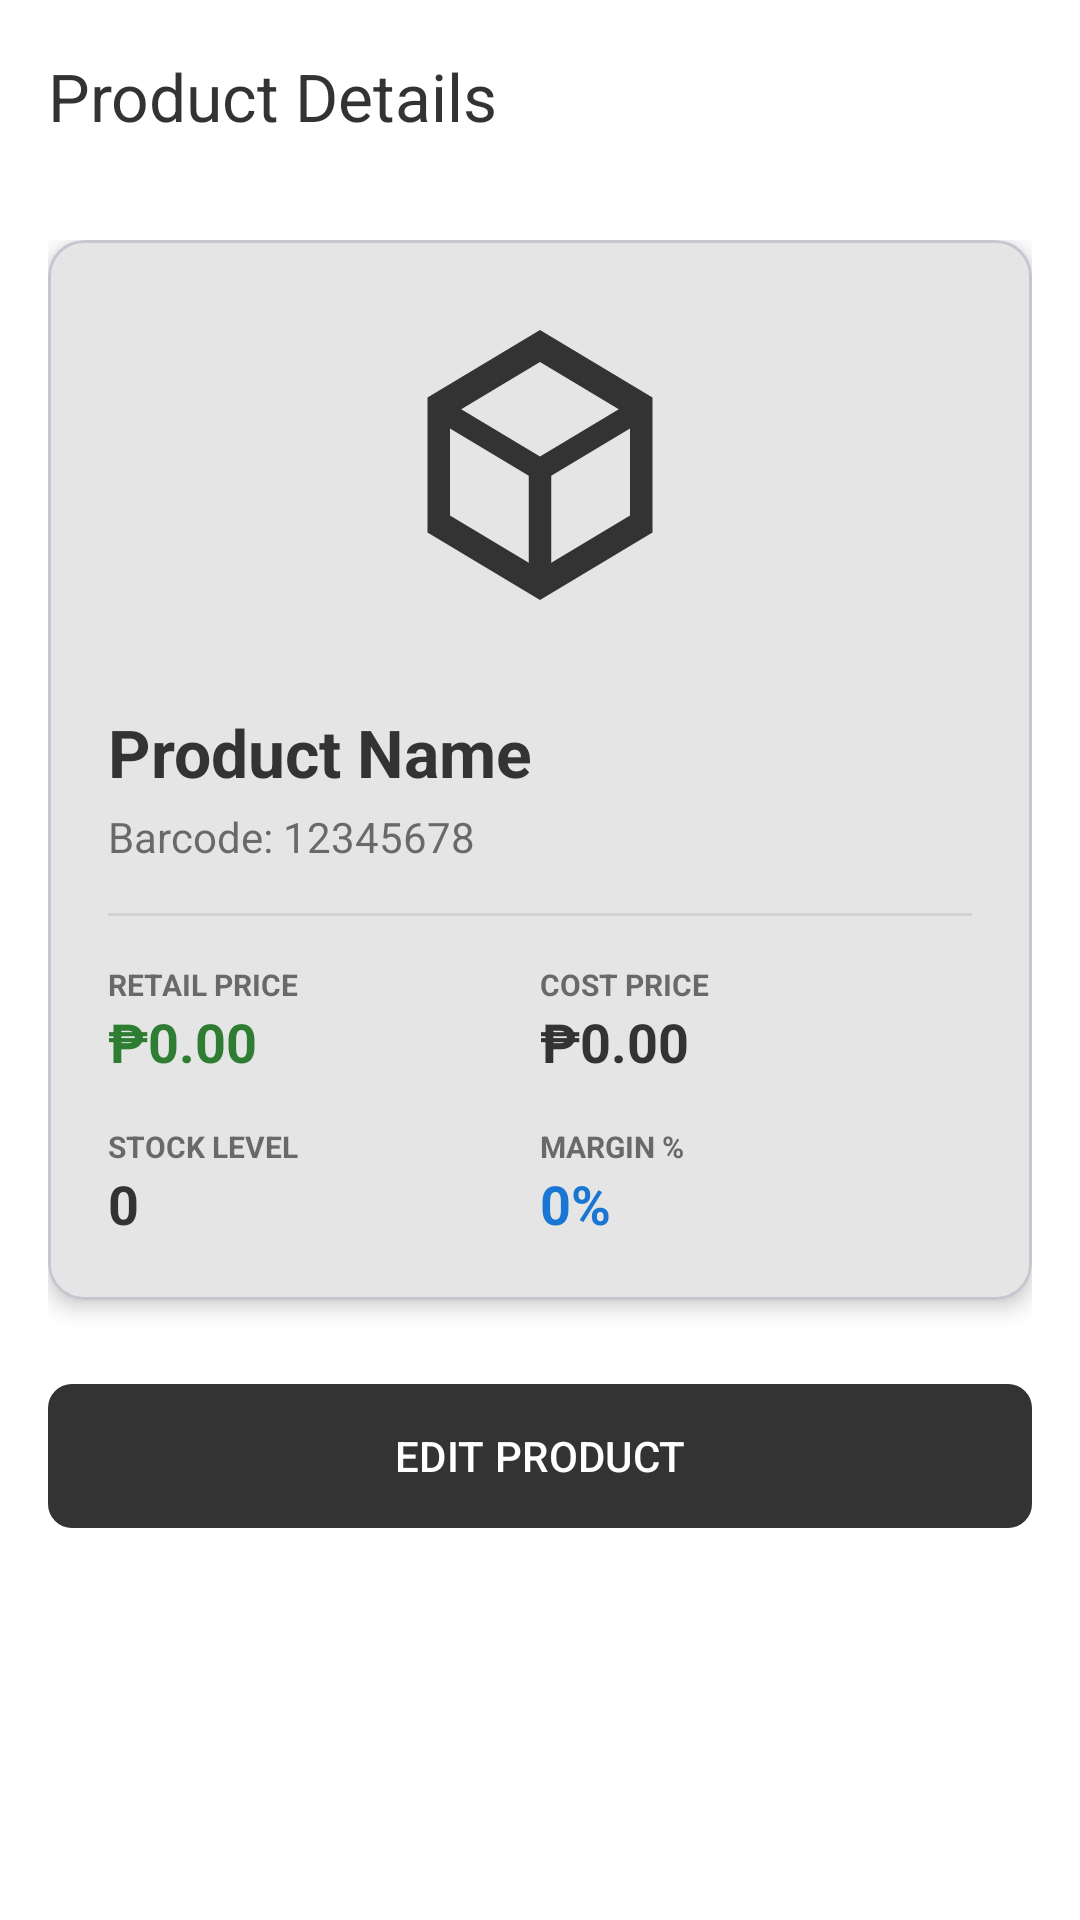

Where icons sit on this 1080x1920 app screen, as [x1=x1, y1=y1, x2=x2, y2=y2]:
cube: [x1=427, y1=330, x2=653, y2=600]
